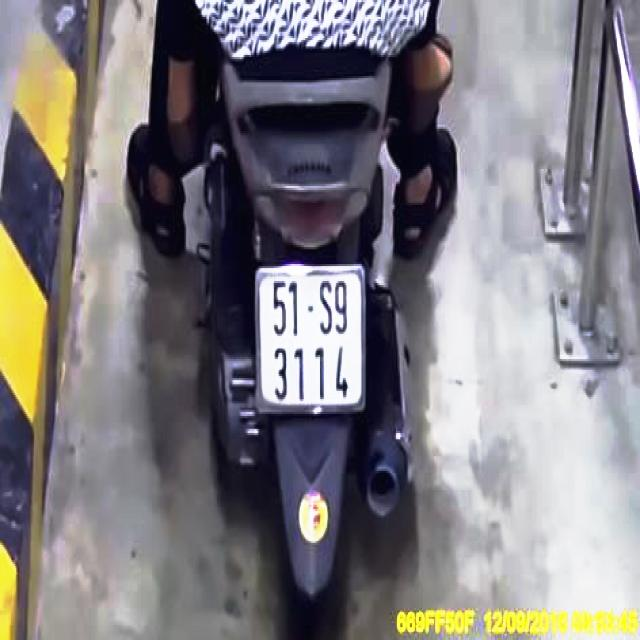license_plate: (258, 271, 365, 411)
